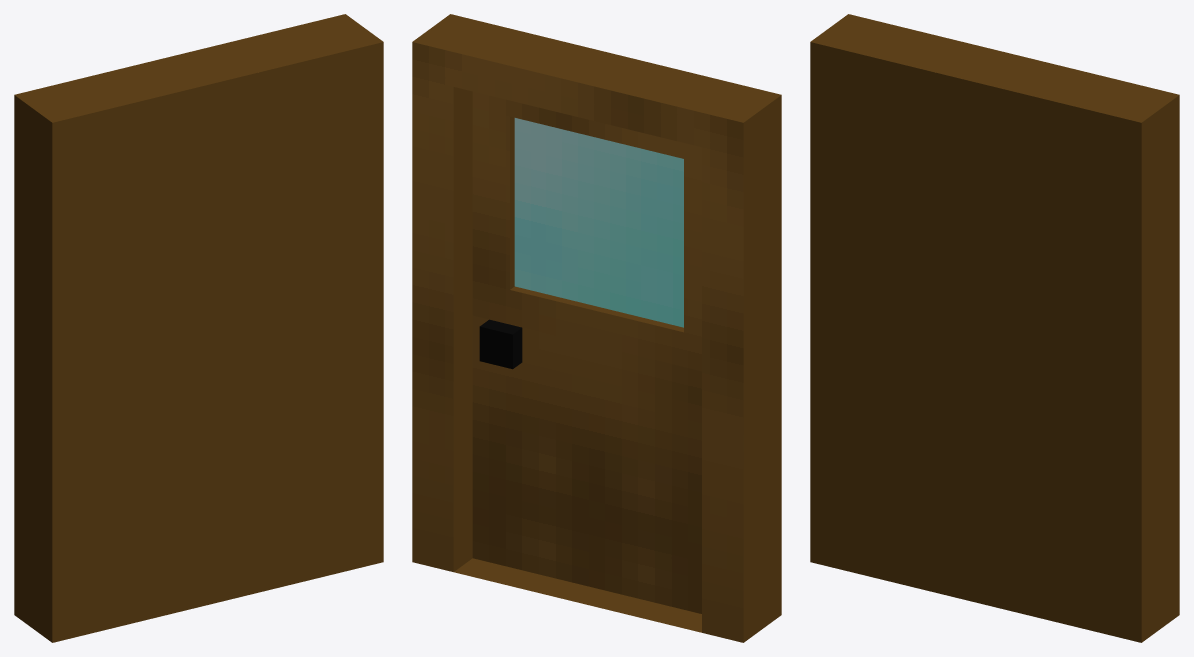
The model's file is doors.fbx.
The picture shows the model from 3 angles, left to right: view 1: azimuth 30°, elevation 25°; view 2: azimuth 150°, elevation 25°; view 3: azimuth 330°, elevation 25°; orthographic projection.
Parts seen in each view (by area): view 1: cuboid; view 2: cuboid, cuboid_1; view 3: cuboid.
Boxes of the visible parts, left/top/right/bottom form: cuboid: left=14, top=14, right=383, bottom=642; cuboid: left=412, top=14, right=781, bottom=642; cuboid_1: left=479, top=319, right=522, bottom=369; cuboid: left=810, top=14, right=1179, bottom=642.
Size of the model in its own units: 125 by 188 by 25.
2 materials, 2 textured.
